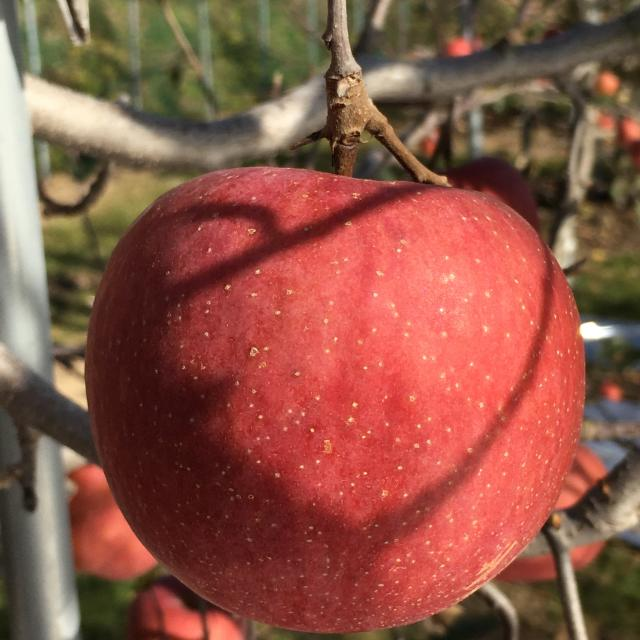fresh: (78, 157, 599, 640)
